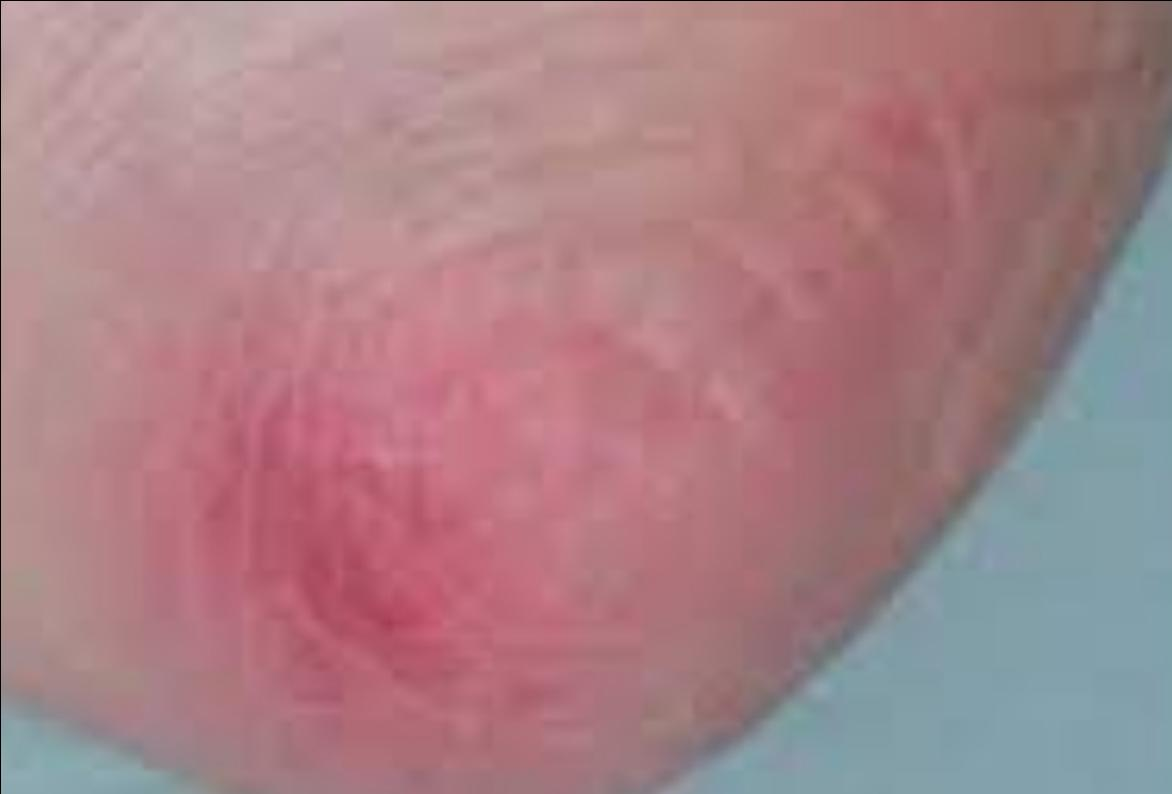Stage1: (161, 146, 978, 794)
